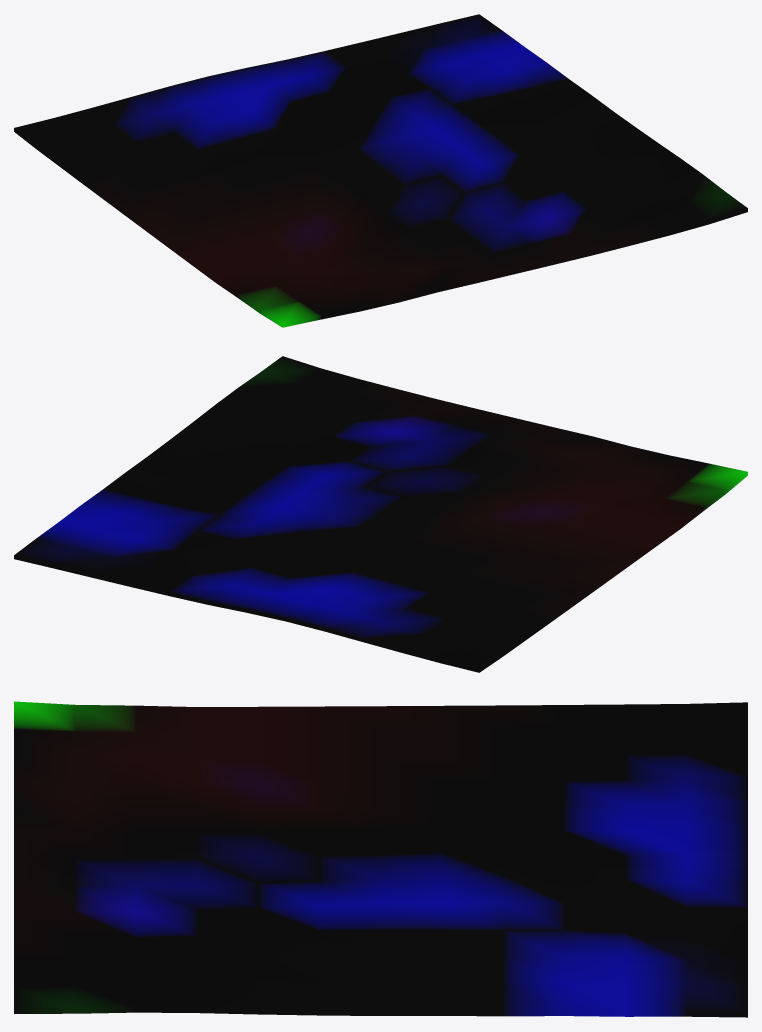
File: coast_2_7.glb
3 renders of one model, top to bottom at view 1: azimuth 30°, elevation 25°; view 2: azimuth 150°, elevation 25°; view 3: azimuth 270°, elevation 25°, orthographic. The views are drawn at different scales.
Visible parts, largest first — view 1: terrain; view 2: terrain; view 3: terrain.
Part boxes in pixels (bbox=[...]): terrain: bbox=[14, 14, 747, 327]; terrain: bbox=[14, 356, 747, 672]; terrain: bbox=[14, 701, 747, 1017].
Bounding box in the file's own units: 192 × 4.9 × 192.
